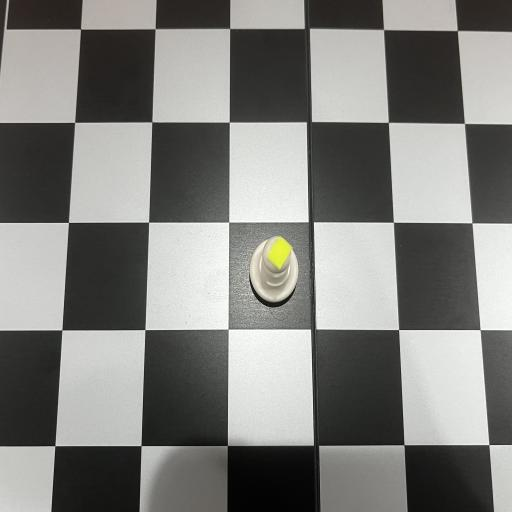White Pawn: (250, 236, 298, 303)
